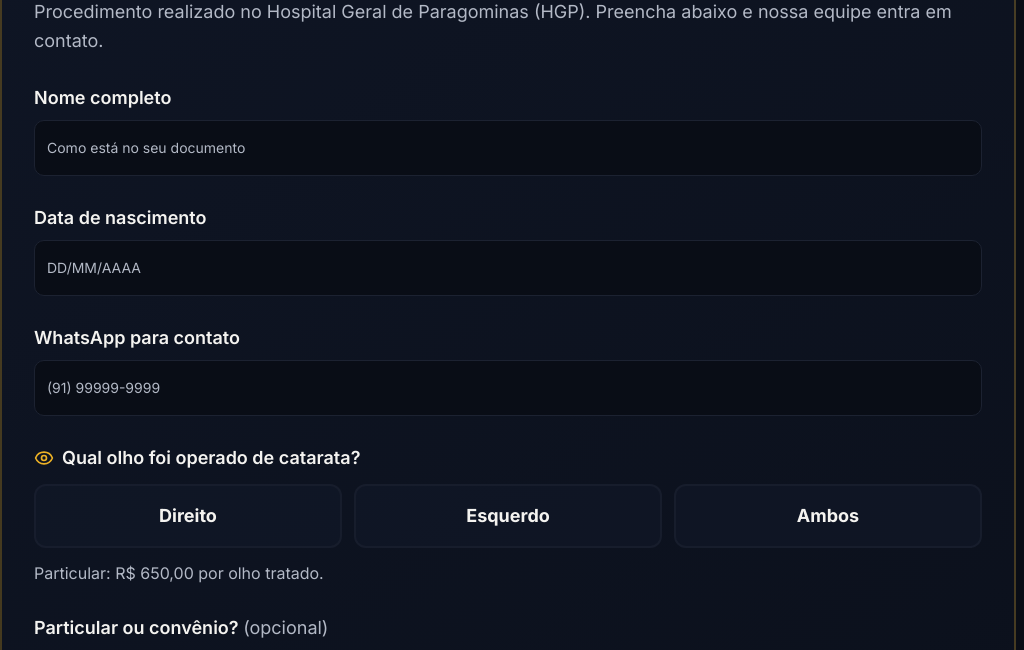
Test: Formulário de agendamento do YAG › não notifica quando o lead não foi criado
The width and height of the screenshot is (1024, 650).
In the field labelled "Nome completo": (508, 148) [34,120,982,176], type "Maria Oliveira"
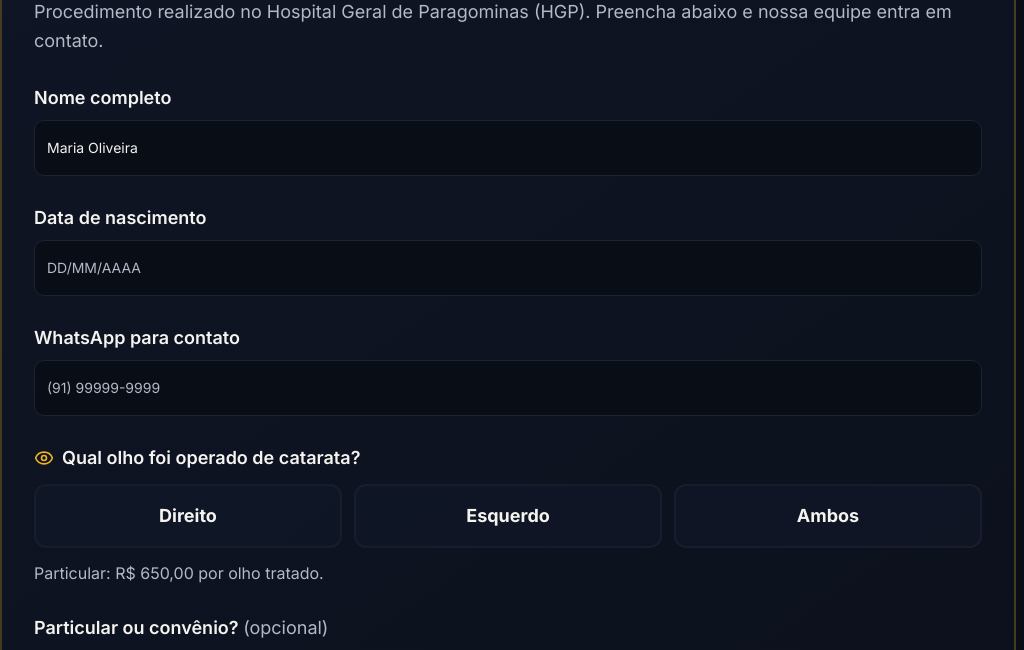
In the field labelled "Data de nascimento": (508, 268) [34,240,982,296], type "07031948"
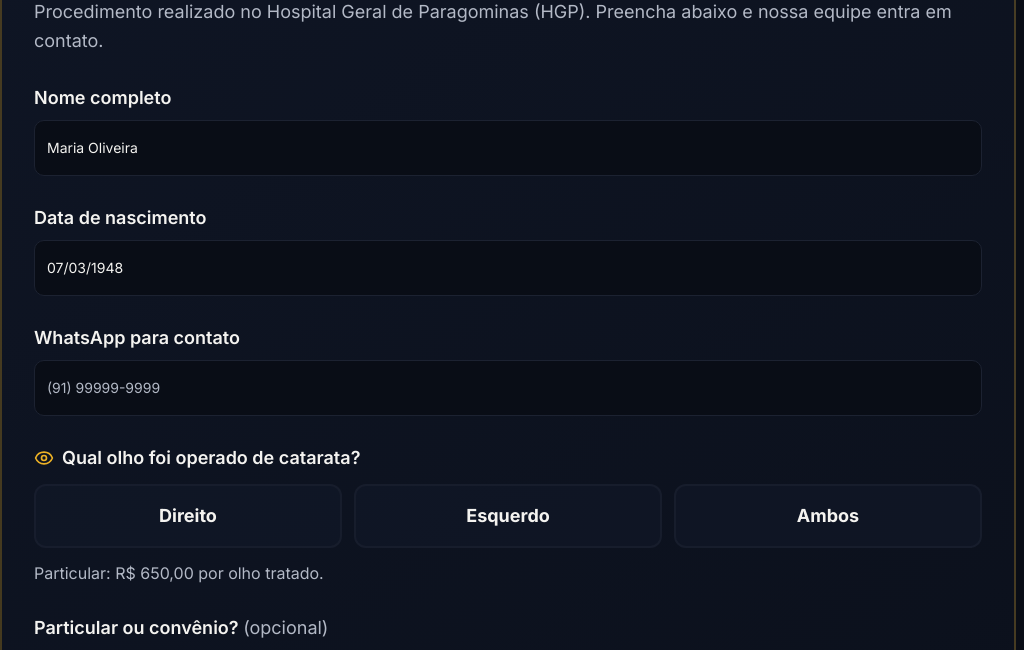
In the field labelled "WhatsApp para contato": (508, 388) [34,360,982,416], type "91999998888"
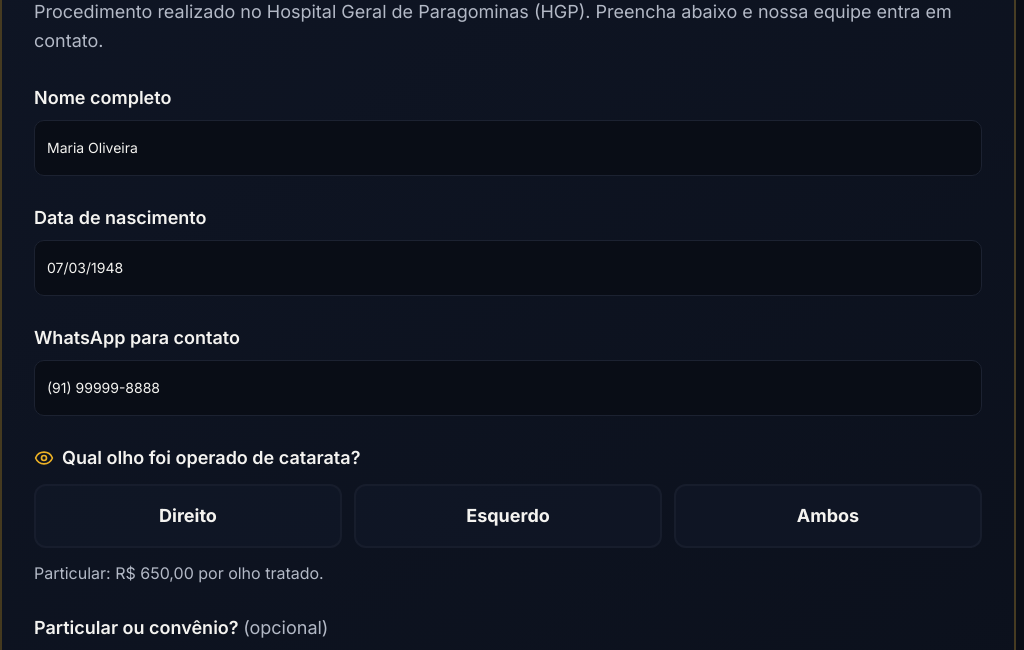
Click the button "Direito": (188, 516) [34,484,342,548]
(page scrolled)
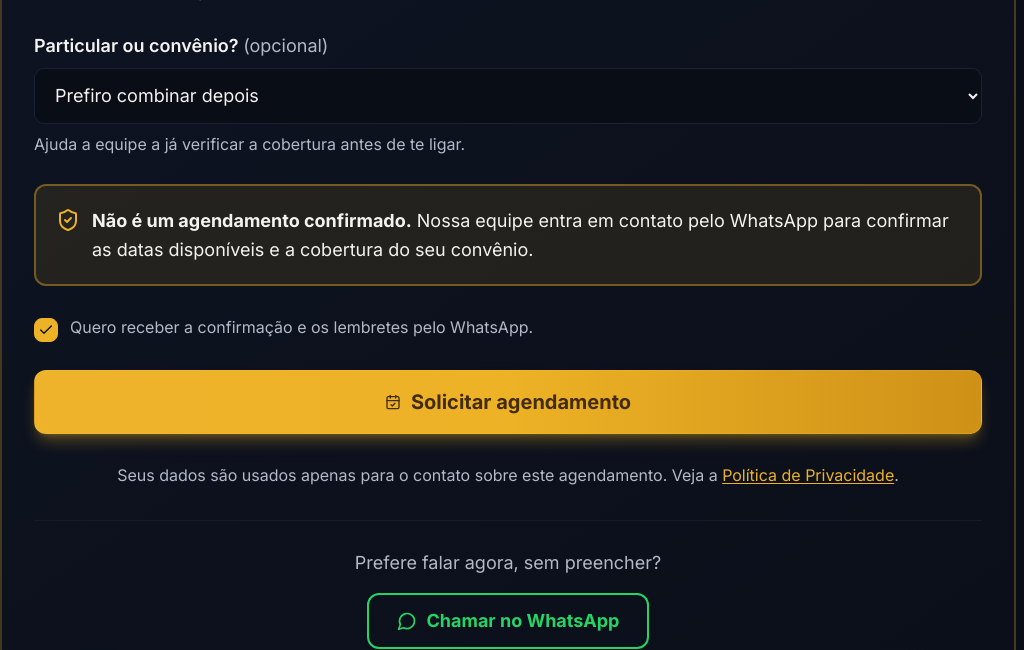
Click the button "Solicitar agendamento": (508, 402) [34,370,982,434]
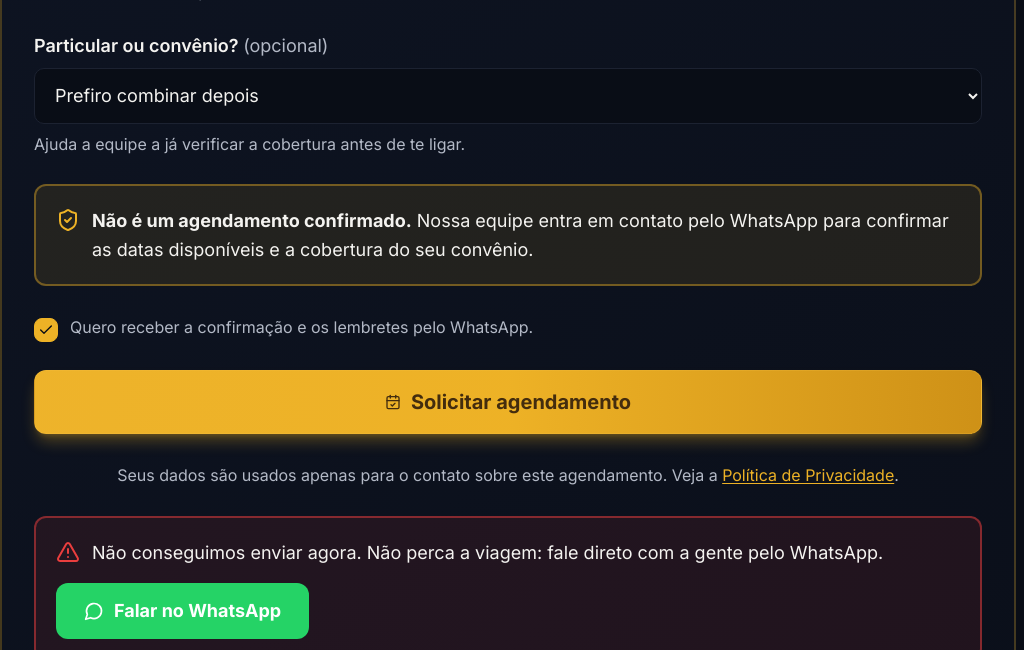
Check: the text "Não conseguimos enviar agora" is shown, box [92,542,883,563]
